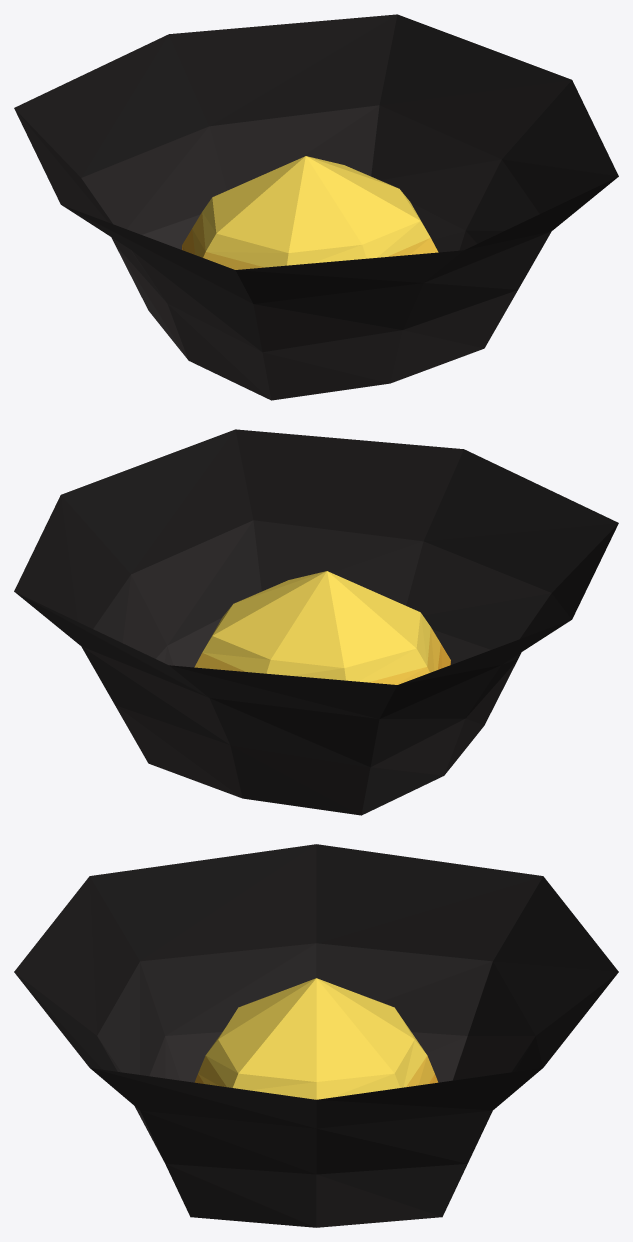
3 renders of one model, top to bottom at view 1: azimuth 30°, elevation 25°; view 2: azimuth 150°, elevation 25°; view 3: azimuth 270°, elevation 25°, orthographic. The views are drawn at different scales.
Size of the model in its own units: 1.88 by 0.6641 by 1.88.
